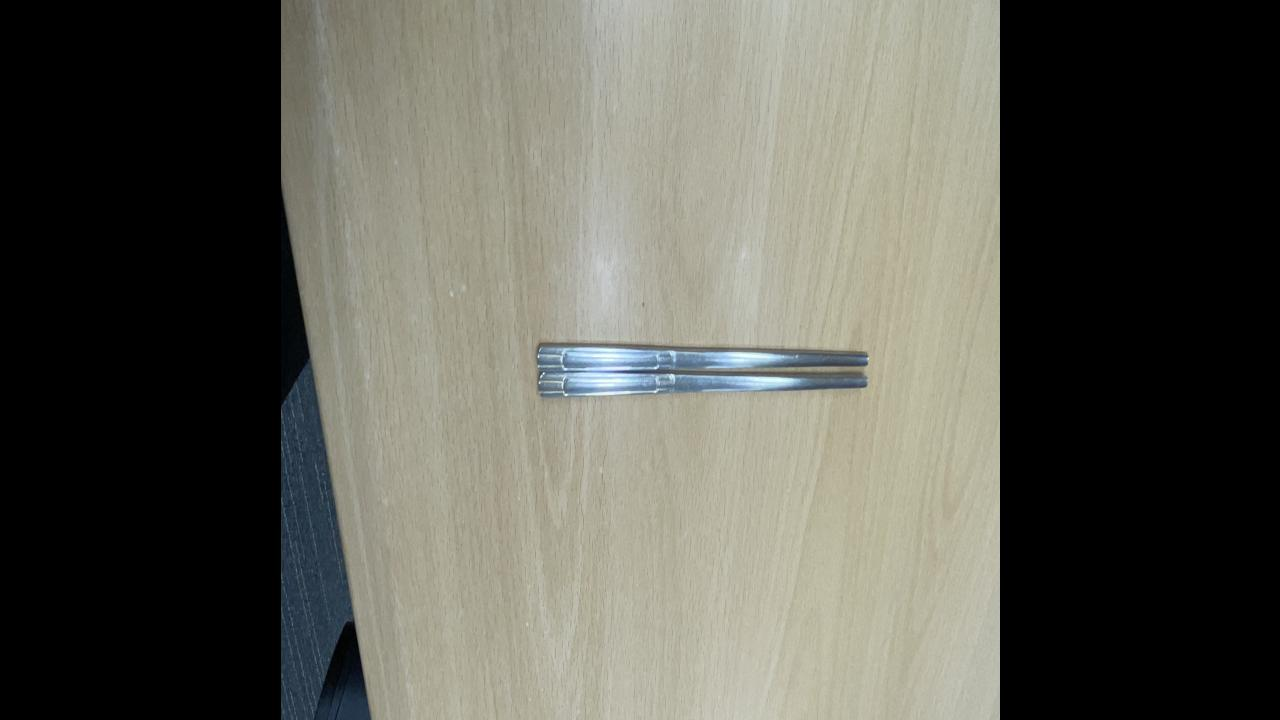chopstick: (535, 342, 869, 397)
